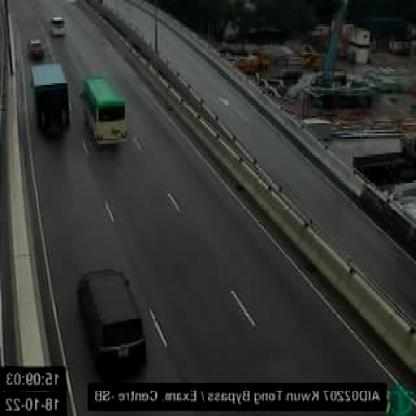Car: (74, 268, 149, 371), (26, 36, 45, 63), (48, 14, 66, 39)
Minibus: (79, 77, 127, 147)
Truck: (30, 62, 72, 140)
